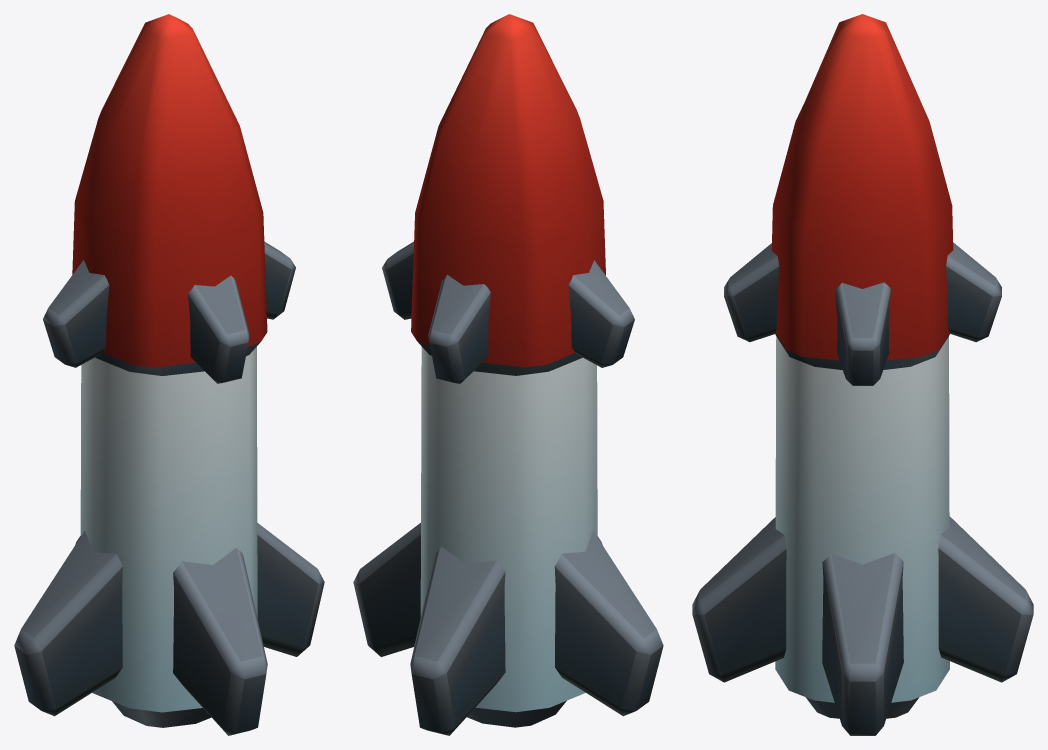
File: rocket.fbx
The picture shows the model from 3 angles, left to right: view 1: azimuth 30°, elevation 25°; view 2: azimuth 150°, elevation 25°; view 3: azimuth 270°, elevation 25°; orthographic projection.
Parts seen in each view (by area): view 1: rocket; view 2: rocket; view 3: rocket.
Part boxes in pixels (x1,y1,x2,y2): rocket: (14,14,324,735); rocket: (353,14,663,735); rocket: (692,14,1033,735).
Bounding box in the file's own units: 64.75 × 143 × 64.75.
